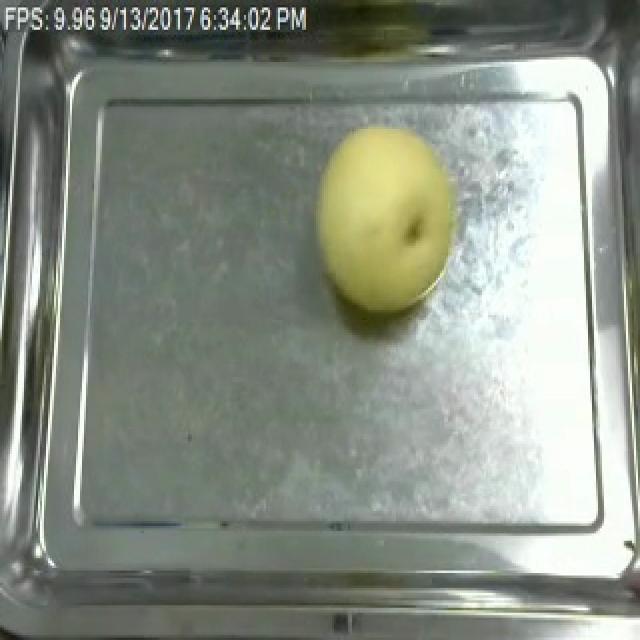Fruit: (302, 112, 470, 320)
